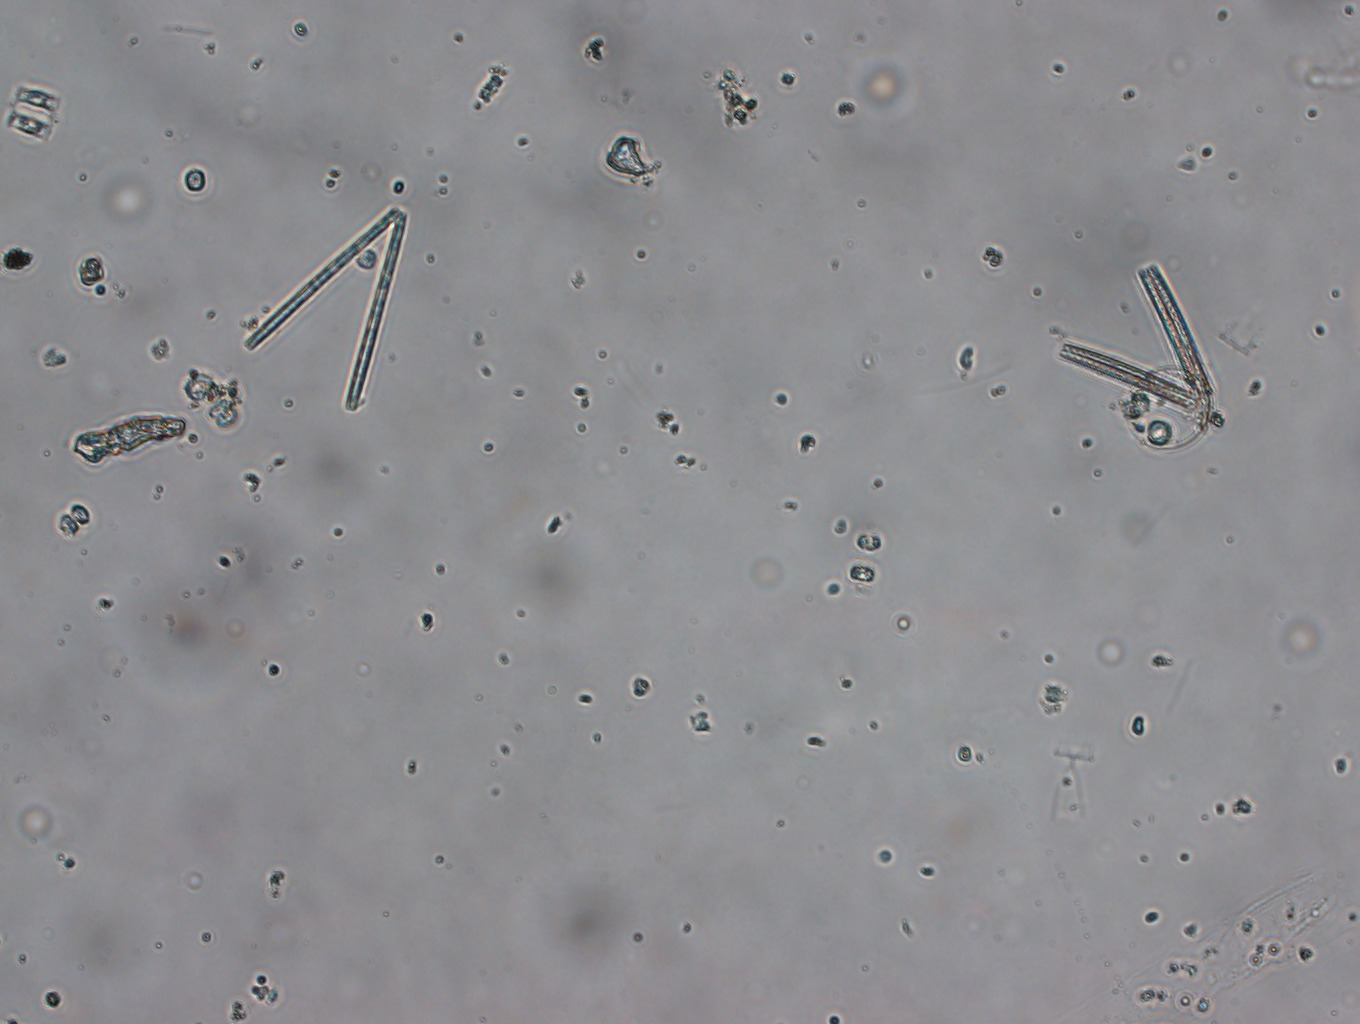thalassionema frauenfeldii: (232, 196, 415, 416), (1057, 260, 1240, 445)
